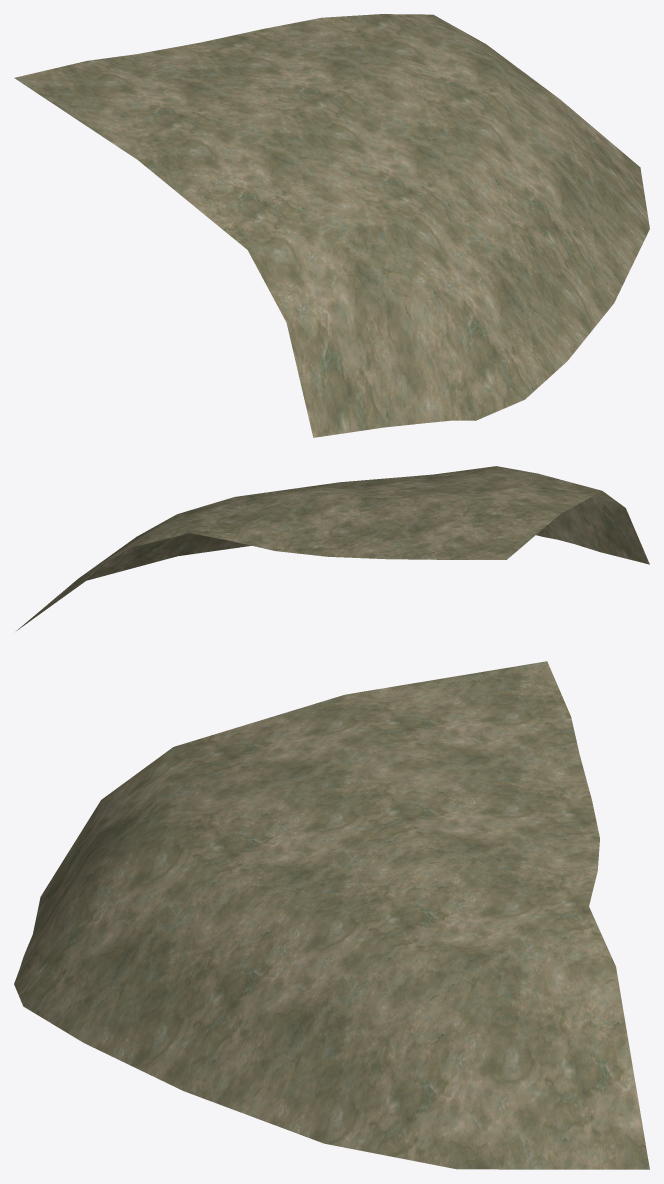
Rendered from OVERHILL_A_01_OBJECT159.fbx.
3 views of the same model, one above another, from view 1: azimuth 30°, elevation 25°; view 2: azimuth 150°, elevation 25°; view 3: azimuth 270°, elevation 25° (orthographic). The views are drawn at different scales.
Parts seen in each view (by area): view 1: OVERHILL_A_01_OBJECT159; view 2: OVERHILL_A_01_OBJECT159; view 3: OVERHILL_A_01_OBJECT159.
Part boxes in pixels (x1,y1,x2,y2): OVERHILL_A_01_OBJECT159: [14, 14, 649, 437]; OVERHILL_A_01_OBJECT159: [16, 466, 649, 630]; OVERHILL_A_01_OBJECT159: [14, 661, 649, 1169].
Size of the model in its own units: 281449 by 95312 by 253210.
Materials: 2 (2 with a texture image).
